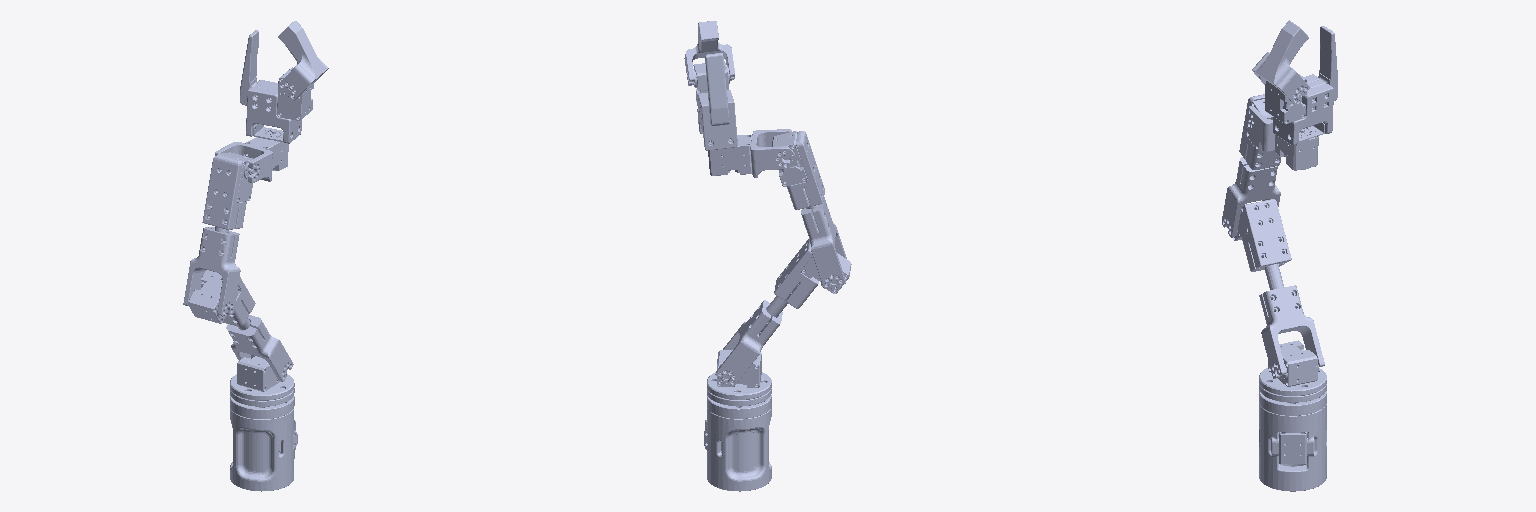
The robot description file, URDF, robot "asm_urdf":
<?xml version="1.0" encoding="utf-8"?>
<!-- This URDF was automatically created by SolidWorks to URDF Exporter! Originally created by [author] ([email redacted]) 
     Commit Version: 1.6.0-4-g7f85cfe  Build Version: 1.6.7995.38578
     For more information, please see http://wiki.ros.org/sw_urdf_exporter -->
<robot
  name="asm_urdf">
  <link
    name="base_link">
    <inertial>
      <origin
        xyz="0.0026394 0.058605 4.4502E-08"
        rpy="0 0 0" />
      <mass
        value="0.2741" />
      <inertia
        ixx="0.0002088"
        ixy="6.1456E-07"
        ixz="-2.0173E-10"
        iyy="0.00017895"
        iyz="5.8562E-11"
        izz="0.00020198" />
    </inertial>
    <visual>
      <origin
        xyz="0 0 0"
        rpy="0 0 0" />
      <geometry>
        <mesh
          filename="package://asm_urdf/meshes/base_link.STL" />
      </geometry>
      <material
        name="">
        <color
          rgba="0.79216 0.81961 0.93333 1" />
      </material>
    </visual>
    <collision>
      <origin
        xyz="0 0 0"
        rpy="0 0 0" />
      <geometry>
        <mesh
          filename="package://asm_urdf/meshes/base_link.STL" />
      </geometry>
    </collision>
  </link>
  <link
    name="link1">
    <inertial>
      <origin
        xyz="0.000265174523434472 0.0146332623369114 0.000380122203217922"
        rpy="0 0 0" />
      <mass
        value="0.0690601055257207" />
      <inertia
        ixx="1.49637565749103E-05"
        ixy="2.07965901967802E-09"
        ixz="-2.0399701522576E-08"
        iyy="2.77236947261433E-05"
        iyz="1.66812344254741E-20"
        izz="1.84318069546469E-05" />
    </inertial>
    <visual>
      <origin
        xyz="0 0 0"
        rpy="0 0 0" />
      <geometry>
        <mesh
          filename="package://asm_urdf/meshes/link1.STL" />
      </geometry>
      <material
        name="">
        <color
          rgba="0.792156862745098 0.819607843137255 0.933333333333333 1" />
      </material>
    </visual>
    <collision>
      <origin
        xyz="0 0 0"
        rpy="0 0 0" />
      <geometry>
        <mesh
          filename="package://asm_urdf/meshes/link1.STL" />
      </geometry>
    </collision>
  </link>
  <joint
    name="joint0"
    type="revolute">
    <origin
      xyz="0 0 0.108"
      rpy="1.5708 0 0.45811" />
    <parent
      link="base_link" />
    <child
      link="link1" />
    <axis
      xyz="0 1 0" />
    <limit
      lower="-1.57"
      upper="1.57"
      effort="10"
      velocity="100" />
  </joint>
  <link
    name="link2">
    <inertial>
      <origin
        xyz="-0.00499785420436526 0.113127869950477 0.000188586916404204"
        rpy="0 0 0" />
      <mass
        value="0.139202469424061" />
      <inertia
        ixx="5.80870150298898E-05"
        ixy="-2.55741784931261E-06"
        ixz="2.03973801541558E-08"
        iyy="3.54083040636901E-05"
        iyz="4.32894799134722E-09"
        izz="5.29890418214857E-05" />
    </inertial>
    <visual>
      <origin
        xyz="0 0 0"
        rpy="0 0 0" />
      <geometry>
        <mesh
          filename="package://asm_urdf/meshes/link2.STL" />
      </geometry>
      <material
        name="">
        <color
          rgba="0.792156862745098 0.819607843137255 0.933333333333333 1" />
      </material>
    </visual>
    <collision>
      <origin
        xyz="0 0 0"
        rpy="0 0 0" />
      <geometry>
        <mesh
          filename="package://asm_urdf/meshes/link2.STL" />
      </geometry>
    </collision>
  </link>
  <joint
    name="joint1"
    type="revolute">
    <origin
      xyz="0.012 0.02125 0"
      rpy="0 0 0.6092" />
    <parent
      link="link1" />
    <child
      link="link2" />
    <axis
      xyz="0 0 1" />
    <limit
      lower="-1.57"
      upper="1.57"
      effort="10"
      velocity="100" />
  </joint>
  <link
    name="link3">
    <inertial>
      <origin
        xyz="-0.0698890167487859 0.0722671869153138 0.000199197450167197"
        rpy="0 0 0" />
      <mass
        value="0.13178178381032" />
      <inertia
        ixx="4.23436758797815E-05"
        ixy="1.77945739142693E-05"
        ixz="1.13522815918097E-08"
        iyy="5.01746474997935E-05"
        iyz="-1.13464621992827E-08"
        izz="5.44264149499368E-05" />
    </inertial>
    <visual>
      <origin
        xyz="0 0 0"
        rpy="0 0 0" />
      <geometry>
        <mesh
          filename="package://asm_urdf/meshes/link3.STL" />
      </geometry>
      <material
        name="">
        <color
          rgba="0.792156862745098 0.819607843137255 0.933333333333333 1" />
      </material>
    </visual>
    <collision>
      <origin
        xyz="0 0 0"
        rpy="0 0 0" />
      <geometry>
        <mesh
          filename="package://asm_urdf/meshes/link3.STL" />
      </geometry>
    </collision>
  </link>
  <joint
    name="joint2"
    type="revolute">
    <origin
      xyz="-0.02825 0.16175 0"
      rpy="0 0 -1.6914" />
    <parent
      link="link2" />
    <child
      link="link3" />
    <axis
      xyz="0 0 1" />
    <limit
      lower="-1.57"
      upper="1.57"
      effort="10"
      velocity="100" />
  </joint>
  <link
    name="link4">
    <inertial>
      <origin
        xyz="0.0376349917051765 0.0327882817014109 4.14297226144968E-07"
        rpy="0 0 0" />
      <mass
        value="0.0632812863238855" />
      <inertia
        ixx="1.72968021092053E-05"
        ixy="-2.27904788147818E-06"
        ixz="4.56068744674014E-10"
        iyy="1.80949162284251E-05"
        iyz="4.28982335803166E-10"
        izz="1.63114177887338E-05" />
    </inertial>
    <visual>
      <origin
        xyz="0 0 0"
        rpy="0 0 0" />
      <geometry>
        <mesh
          filename="package://asm_urdf/meshes/link4.STL" />
      </geometry>
      <material
        name="">
        <color
          rgba="0.792156862745098 0.819607843137255 0.933333333333333 1" />
      </material>
    </visual>
    <collision>
      <origin
        xyz="0 0 0"
        rpy="0 0 0" />
      <geometry>
        <mesh
          filename="package://asm_urdf/meshes/link4.STL" />
      </geometry>
    </collision>
  </link>
  <joint
    name="joint3"
    type="revolute">
    <origin
      xyz="-0.1043 0.11455 0"
      rpy="0 0 0.2217" />
    <parent
      link="link3" />
    <child
      link="link4" />
    <axis
      xyz="0 0 1" />
    <limit
      lower="-1.57"
      upper="1.57"
      effort="10"
      velocity="100" />
  </joint>
  <link
    name="link5">
    <inertial>
      <origin
        xyz="-0.0382051686525202 0.0422871201920782 0.00074079983166165"
        rpy="0 0 0" />
      <mass
        value="0.118196494989839" />
      <inertia
        ixx="2.94800339618678E-05"
        ixy="4.72042452773534E-06"
        ixz="-1.57540364406755E-06"
        iyy="3.82403028936536E-05"
        iyz="-2.89828208503378E-07"
        izz="4.49623060322161E-05" />
    </inertial>
    <visual>
      <origin
        xyz="0 0 0"
        rpy="0 0 0" />
      <geometry>
        <mesh
          filename="package://asm_urdf/meshes/link5.STL" />
      </geometry>
      <material
        name="">
        <color
          rgba="0.792156862745098 0.819607843137255 0.933333333333333 1" />
      </material>
    </visual>
    <collision>
      <origin
        xyz="0 0 0"
        rpy="0 0 0" />
      <geometry>
        <mesh
          filename="package://asm_urdf/meshes/link5.STL" />
      </geometry>
    </collision>
  </link>
  <joint
    name="joint4"
    type="revolute">
    <origin
      xyz="0.051442 0.051442 0"
      rpy="1.0481 -0.71397 -0.42459" />
    <parent
      link="link4" />
    <child
      link="link5" />
    <axis
      xyz="0.70711 -0.70711 0" />
    <limit
      lower="-1.57"
      upper="1.57"
      effort="10"
      velocity="100" />
  </joint>
  <link
    name="end_effector">
    <inertial>
      <origin
        xyz="-0.0284628214325526 -0.0139076736116053 -9.47532927467187E-09"
        rpy="0 0 0" />
      <mass
        value="0.0320645677003462" />
      <inertia
        ixx="1.58332306148999E-05"
        ixy="-4.25284300681562E-06"
        ixz="-3.36240136584044E-12"
        iyy="1.00942503848797E-05"
        iyz="7.37955826478408E-12"
        izz="1.42918676689653E-05" />
    </inertial>
    <visual>
      <origin
        xyz="0 0 0"
        rpy="0 0 0" />
      <geometry>
        <mesh
          filename="package://asm_urdf/meshes/end_effector.STL" />
      </geometry>
      <material
        name="">
        <color
          rgba="0.792156862745098 0.819607843137255 0.933333333333333 1" />
      </material>
    </visual>
    <collision>
      <origin
        xyz="0 0 0"
        rpy="0 0 0" />
      <geometry>
        <mesh
          filename="package://asm_urdf/meshes/end_effector.STL" />
      </geometry>
    </collision>
  </link>
  <joint
    name="end_effector_joint"
    type="revolute">
    <origin
      xyz="-0.0392 0.072169 0.0045389"
      rpy="0.15249 0.11761 -1.4375" />
    <parent
      link="link5" />
    <child
      link="end_effector" />
    <axis
      xyz="0 0 1" />
    <limit
      lower="-1.57"
      upper="1.57"
      effort="10"
      velocity="100" />
  </joint>
</robot>

--- Render facts (derived) ---
Views: 3 orthographic renders of the robot side by side, from view 1: azimuth 30°, elevation 25°; view 2: azimuth 150°, elevation 25°; view 3: azimuth 270°, elevation 25°.
Model asm_urdf with 7 links and 6 joints (6 revolute), rooted at base_link, posed every joint at zero.
Visible links, largest first — view 1: link3, base_link, link2, link5, link1, end_effector, link4; view 2: base_link, link3, link2, link5, link4, link1, end_effector; view 3: base_link, link2, link5, link3, end_effector, link1, link4.
Boxes of the visible links, left/top/right/bottom form: link3: left=183, top=152, right=254, bottom=315; base_link: left=230, top=388, right=297, bottom=491; link2: left=188, top=270, right=293, bottom=381; link5: left=240, top=30, right=313, bottom=143; link1: left=230, top=355, right=294, bottom=400; end_effector: left=278, top=21, right=328, bottom=100; link4: left=215, top=131, right=288, bottom=183; base_link: left=704, top=388, right=771, bottom=491; link3: left=772, top=131, right=846, bottom=288; link2: left=715, top=239, right=851, bottom=386; link5: left=693, top=53, right=737, bottom=150; link4: left=708, top=129, right=791, bottom=177; link1: left=707, top=350, right=771, bottom=399; end_effector: left=684, top=21, right=734, bottom=85; base_link: left=1259, top=384, right=1326, bottom=491; link2: left=1227, top=199, right=1324, bottom=378; link5: left=1265, top=26, right=1337, bottom=145; link3: left=1222, top=94, right=1280, bottom=237; end_effector: left=1252, top=20, right=1309, bottom=104; link1: left=1259, top=340, right=1326, bottom=395; link4: left=1247, top=106, right=1318, bottom=170.
Bounding box of the posed robot: 0.1904 × 0.1205 × 0.534 m (x, y, z).
7 mesh visuals loaded from 7 distinct referenced files (7 binary STL).
